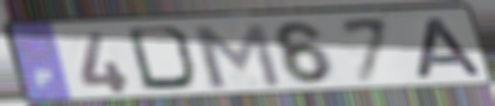4: (76, 28, 134, 96)
6: (270, 20, 338, 88)
7: (339, 14, 393, 87)
A: (411, 16, 489, 81)
D: (123, 24, 205, 94)
M: (187, 22, 286, 91)
